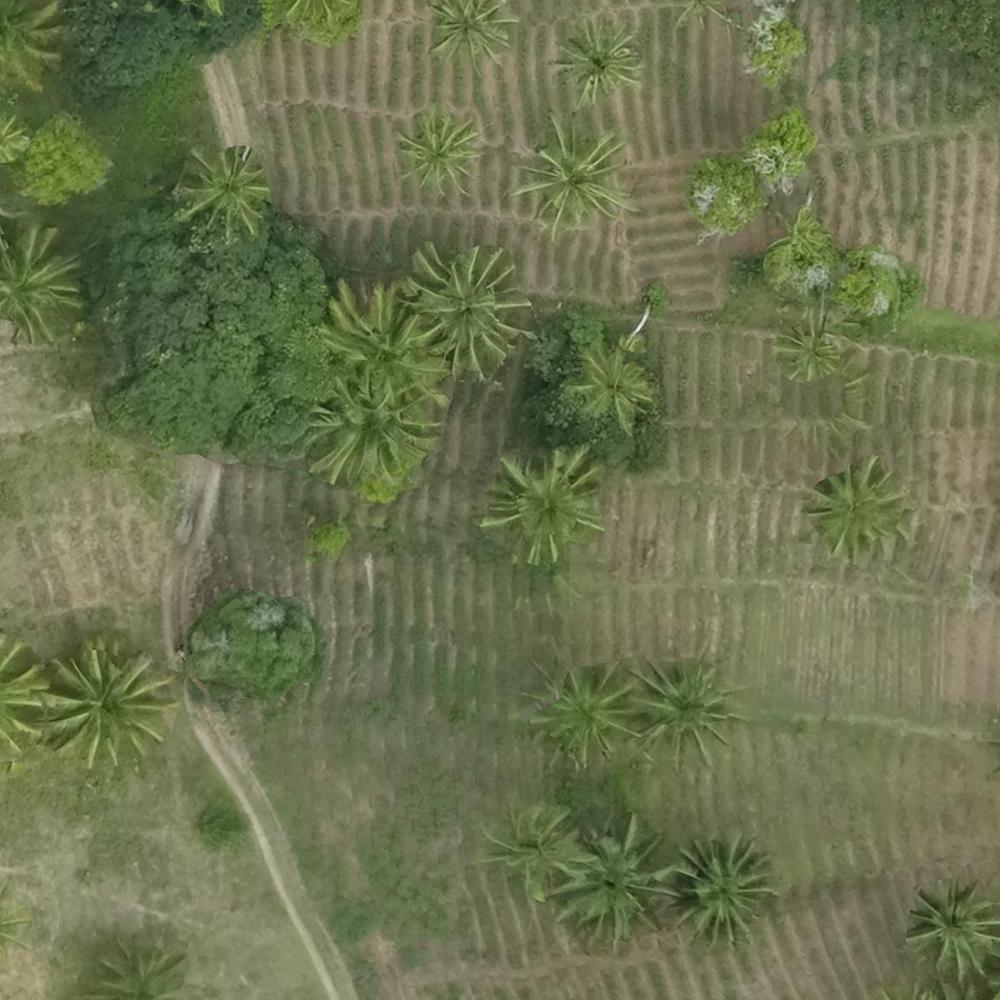Palm: (403, 247, 524, 372), (48, 647, 166, 767), (313, 371, 437, 485), (552, 824, 669, 942), (517, 116, 632, 230), (321, 277, 438, 382), (625, 652, 734, 760), (491, 452, 601, 558), (670, 835, 771, 946), (531, 660, 637, 762), (1, 227, 90, 348), (809, 457, 905, 558), (904, 878, 1000, 977), (481, 800, 581, 894), (396, 112, 488, 198), (178, 147, 263, 236), (554, 19, 644, 100), (424, 1, 518, 77), (574, 339, 652, 421)
